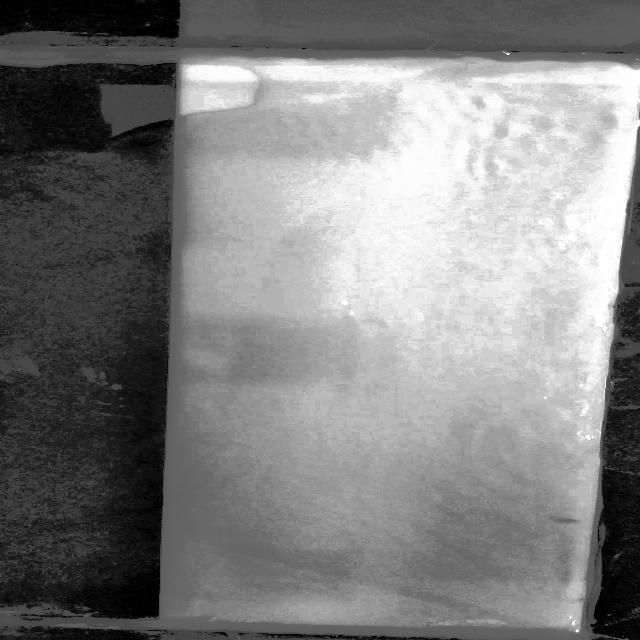shrimp: (549, 512, 590, 528)
